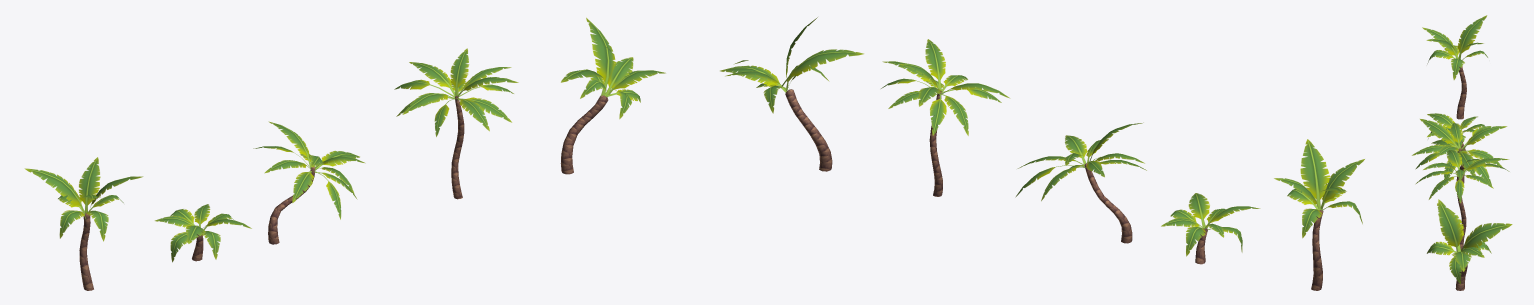
File: palms.glb
The picture shows the model from 3 angles, left to right: view 1: azimuth 30°, elevation 25°; view 2: azimuth 150°, elevation 25°; view 3: azimuth 270°, elevation 25°; orthographic projection. The views are drawn at different scales.
Parts seen in each view (by area): view 1: PalmTree_1, PalmTree_2, PalmTree_3, PalmTree_4, PalmTree_5; view 2: PalmTree_1, PalmTree_3, PalmTree_2, PalmTree_4, PalmTree_5; view 3: PalmTree_2, PalmTree_4, PalmTree_3, PalmTree_1, PalmTree_5.
Part boxes in pixels (left/top/right/bottom): PalmTree_1: left=394, top=48, right=518, bottom=199; PalmTree_2: left=560, top=17, right=665, bottom=174; PalmTree_3: left=24, top=157, right=143, bottom=290; PalmTree_4: left=253, top=121, right=365, bottom=244; PalmTree_5: left=154, top=204, right=251, bottom=262; PalmTree_1: left=881, top=39, right=1010, bottom=196; PalmTree_3: left=1274, top=139, right=1364, bottom=290; PalmTree_2: left=720, top=17, right=863, bottom=171; PalmTree_4: left=1015, top=122, right=1146, bottom=243; PalmTree_5: left=1161, top=193, right=1260, bottom=264; PalmTree_2: left=1426, top=199, right=1512, bottom=290; PalmTree_4: left=1412, top=119, right=1507, bottom=185; PalmTree_3: left=1422, top=15, right=1487, bottom=119; PalmTree_1: left=1415, top=150, right=1509, bottom=249; PalmTree_5: left=1427, top=113, right=1485, bottom=152.
Bounding box in the file's own units: 25.91 × 5.28 × 5.24.
2 materials, 2 textured.
